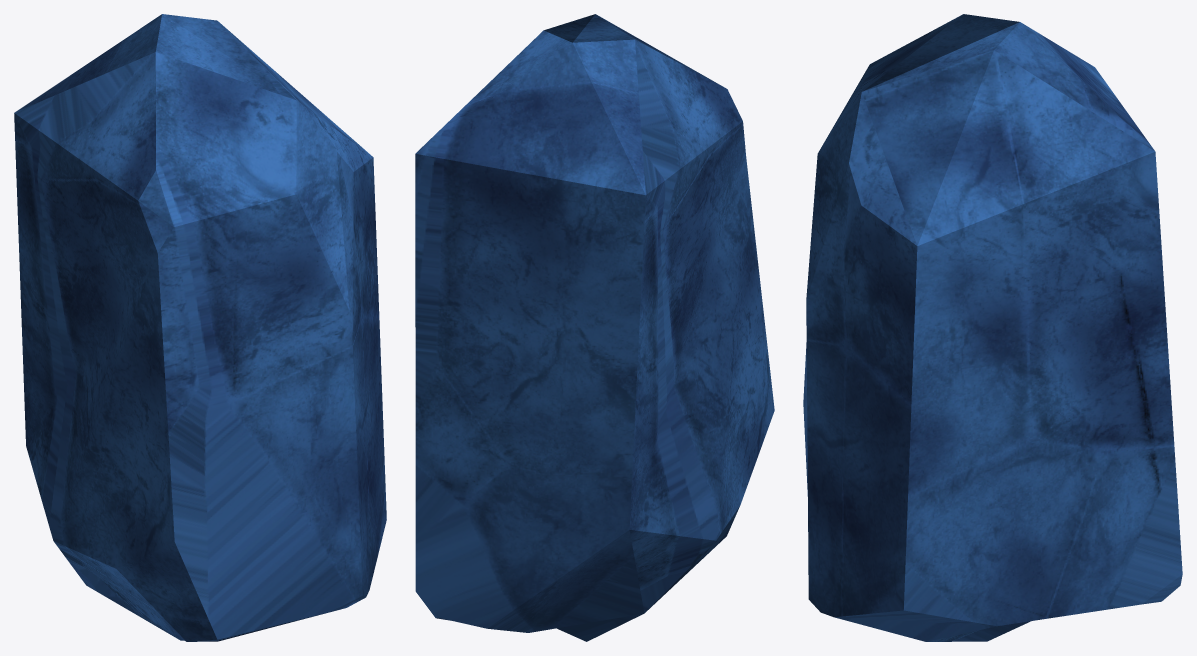
3 renders of one model, left to right at view 1: azimuth 30°, elevation 25°; view 2: azimuth 150°, elevation 25°; view 3: azimuth 270°, elevation 25°, orthographic.
Parts seen in each view (by area): view 1: Crystal_c1; view 2: Crystal_c1; view 3: Crystal_c1.
Part boxes in pixels (x1,y1,x2,y2): Crystal_c1: [14, 14, 386, 641]; Crystal_c1: [415, 14, 774, 641]; Crystal_c1: [803, 14, 1182, 641].
Bounding box in the file's own units: 1.06 × 2.13 × 1.18.
